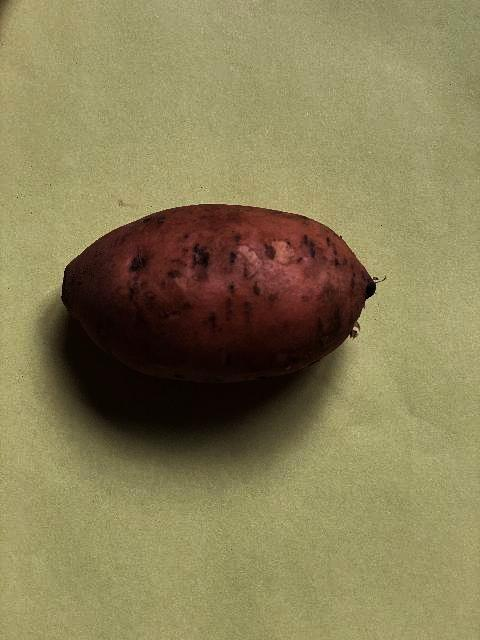sweetpotato: (60, 202, 376, 386)
